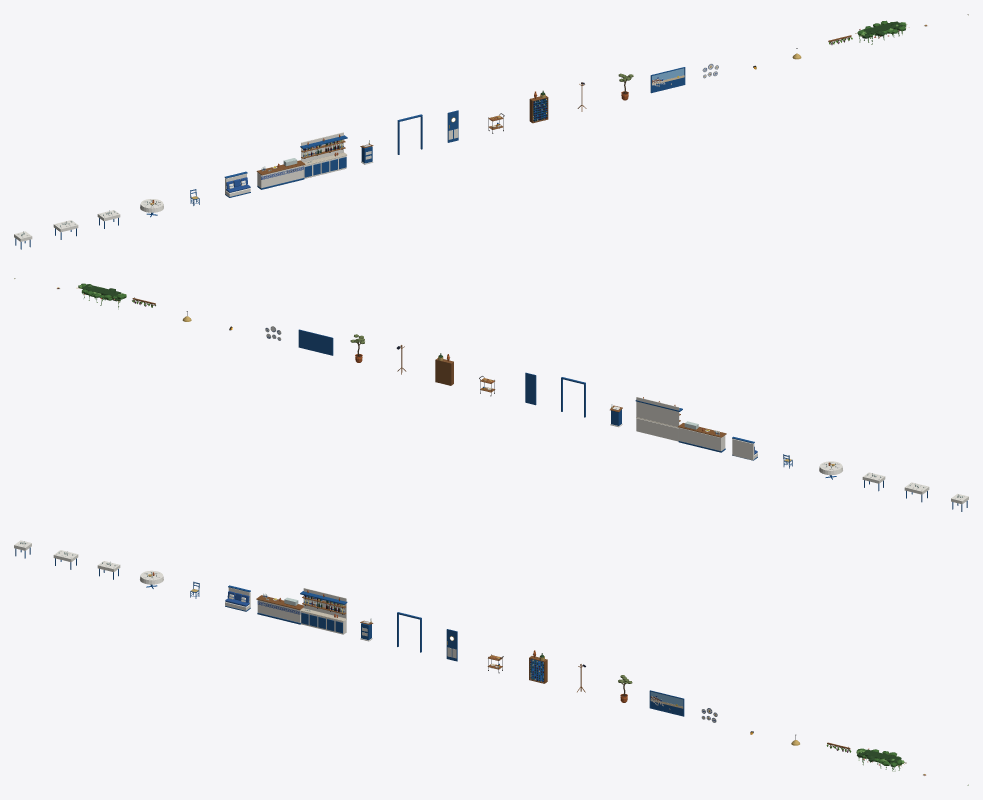
Rendered from RestaurantGreek.glb.
3 views of the same model, one above another, from view 1: azimuth 30°, elevation 25°; view 2: azimuth 150°, elevation 25°; view 3: azimuth 330°, elevation 25° (orthographic).
Visible parts, largest first — view 1: BackBar, Bar, Mural, Greenery, Booth, WineRack; view 2: BackBar, Bar, Mural, Greenery, WineRack; view 3: BackBar, Bar, Mural, Greenery, Booth.
Part boxes in pixels (box(x1,y1,x2,y2)): BackBar: box(300, 132, 347, 178); Bar: box(256, 158, 305, 189); Mural: box(650, 67, 685, 93); Greenery: box(855, 20, 909, 44); Booth: box(224, 171, 250, 197); WineRack: box(529, 90, 548, 123); BackBar: box(635, 397, 682, 441); Bar: box(678, 421, 726, 452); Mural: box(298, 329, 333, 355); Greenery: box(76, 283, 126, 309); WineRack: box(435, 353, 453, 385); BackBar: box(300, 588, 347, 634); Bar: box(256, 593, 303, 624); Mural: box(649, 690, 684, 716); Greenery: box(856, 748, 906, 771); Booth: box(225, 585, 250, 611).
Bounding box in the file's own units: 332 × 12.57 × 7.87.
